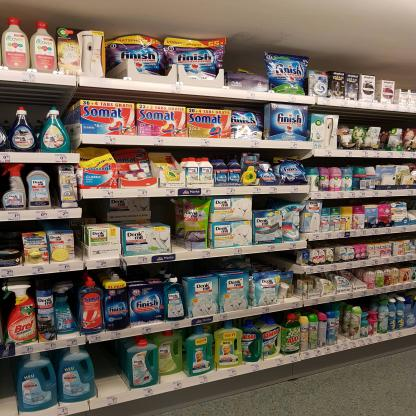Void: (90, 346, 127, 392), (8, 82, 64, 107), (342, 111, 410, 124), (232, 44, 264, 70), (172, 199, 183, 251), (252, 256, 287, 271), (256, 194, 294, 206), (2, 224, 15, 245), (88, 200, 101, 218)
